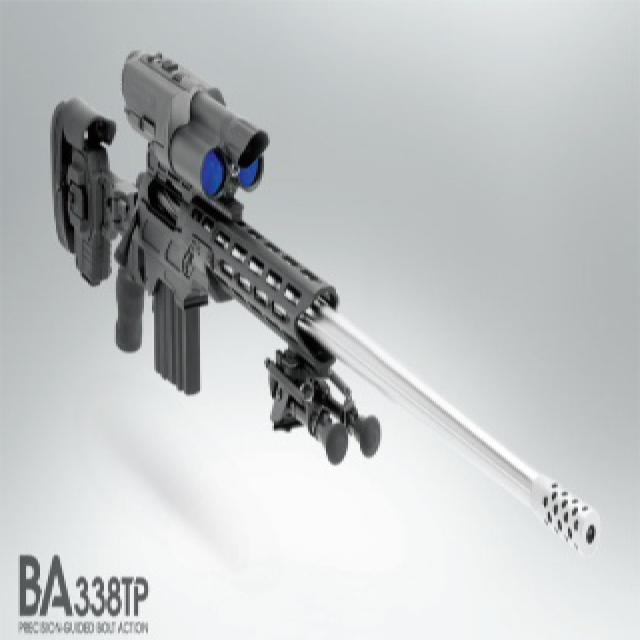long weapon: (42, 47, 598, 555)
